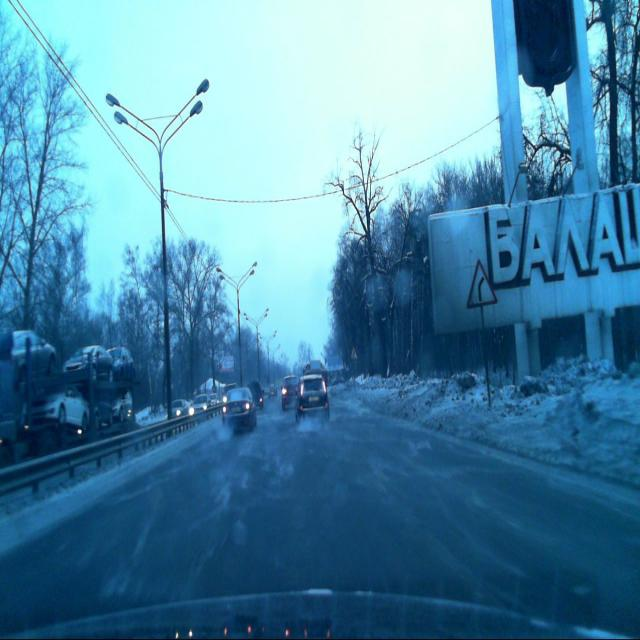object: (480, 310, 492, 412)
road sign: (468, 258, 498, 307)
